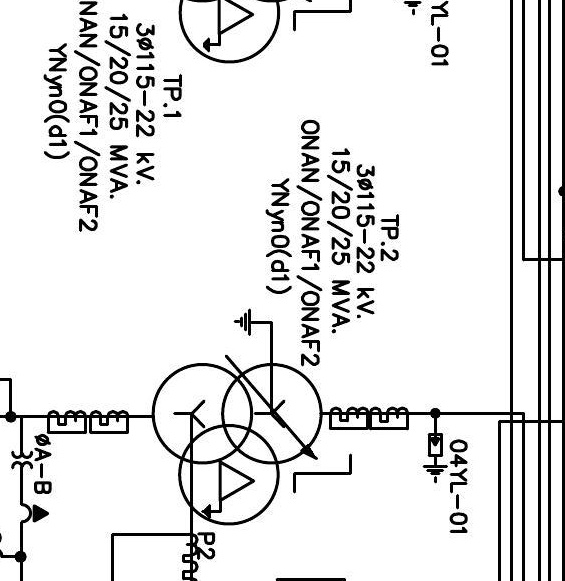11522_tx_ynyn0d1: (150, 362, 324, 527)
115_la: (422, 432, 449, 484)
